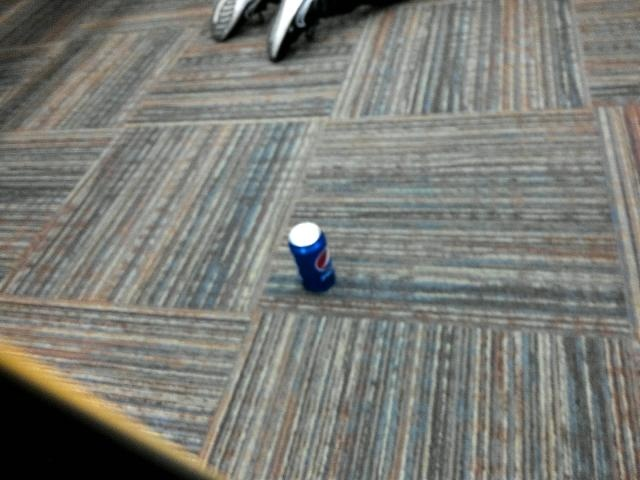can: (278, 216, 342, 297)
